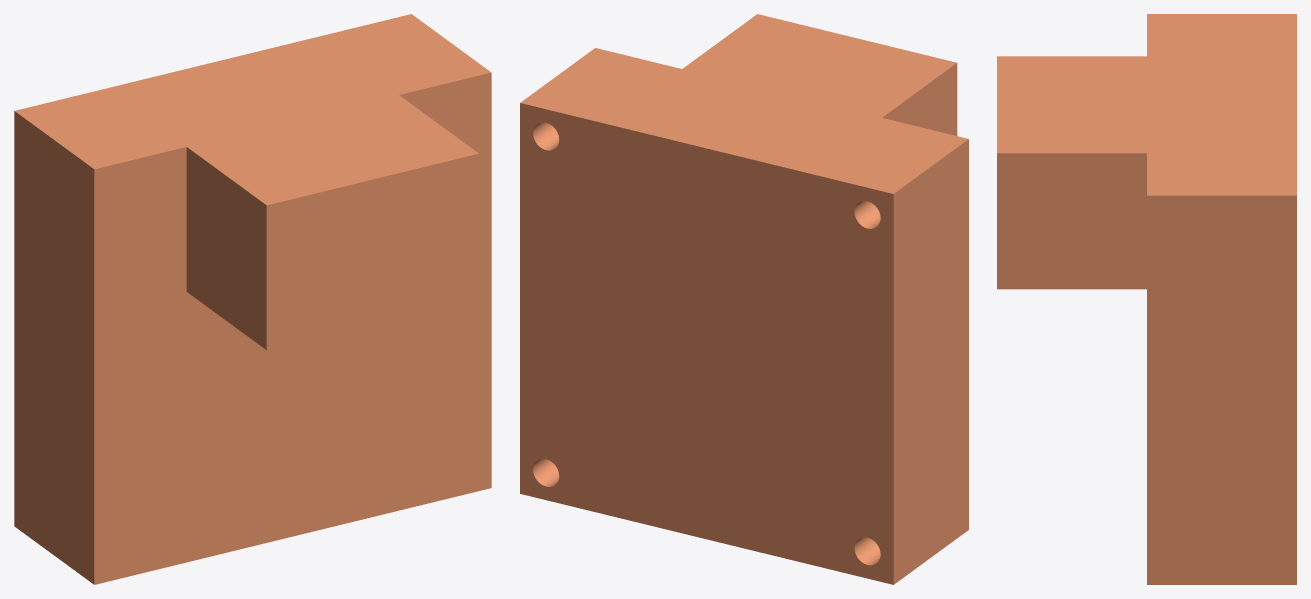
Rendered from motor_driver.gltf.
3 renders of one model, left to right at view 1: azimuth 30°, elevation 25°; view 2: azimuth 150°, elevation 25°; view 3: azimuth 270°, elevation 25°, orthographic. The views are drawn at different scales.
Parts seen in each view (by area): view 1: mesh3130, mesh3131, mesh3123, mesh3135, mesh3134; view 2: mesh3120, mesh3131, mesh3123, mesh3134, mesh3124, mesh3119, mesh3128, mesh3126; view 3: mesh3122, mesh3131, mesh3133.
Part boxes in pixels (x1,y1,x2,y2): mesh3130: [94, 72, 491, 584]; mesh3131: [15, 14, 490, 205]; mesh3123: [14, 111, 94, 584]; mesh3135: [266, 153, 478, 350]; mesh3134: [186, 147, 266, 349]; mesh3120: [520, 103, 893, 584]; mesh3131: [520, 14, 968, 193]; mesh3123: [893, 139, 968, 584]; mesh3134: [882, 63, 957, 135]; mesh3124: [854, 537, 880, 565]; mesh3119: [533, 122, 559, 150]; mesh3128: [854, 201, 880, 228]; mesh3126: [533, 459, 559, 486]; mesh3122: [1147, 195, 1296, 584]; mesh3131: [997, 14, 1296, 195]; mesh3133: [997, 153, 1146, 289].
Size of the model in its own units: 0.043 by 0.043 by 0.03.
